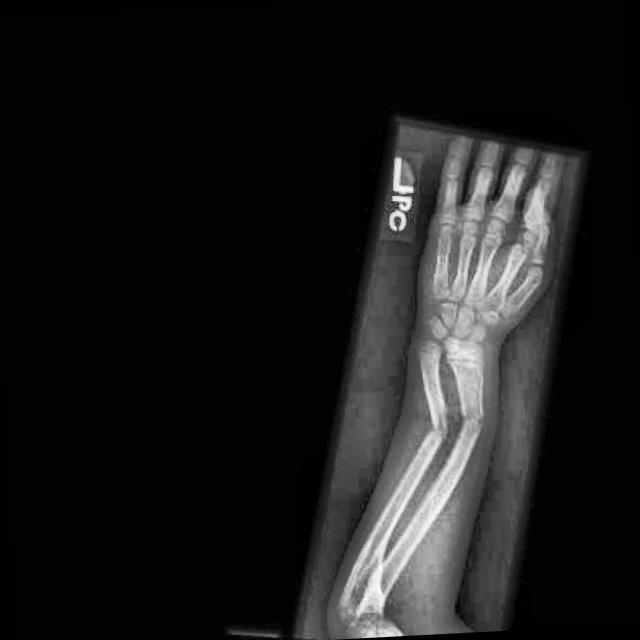forearm fracture: (394, 397, 465, 467), (437, 406, 496, 467)
